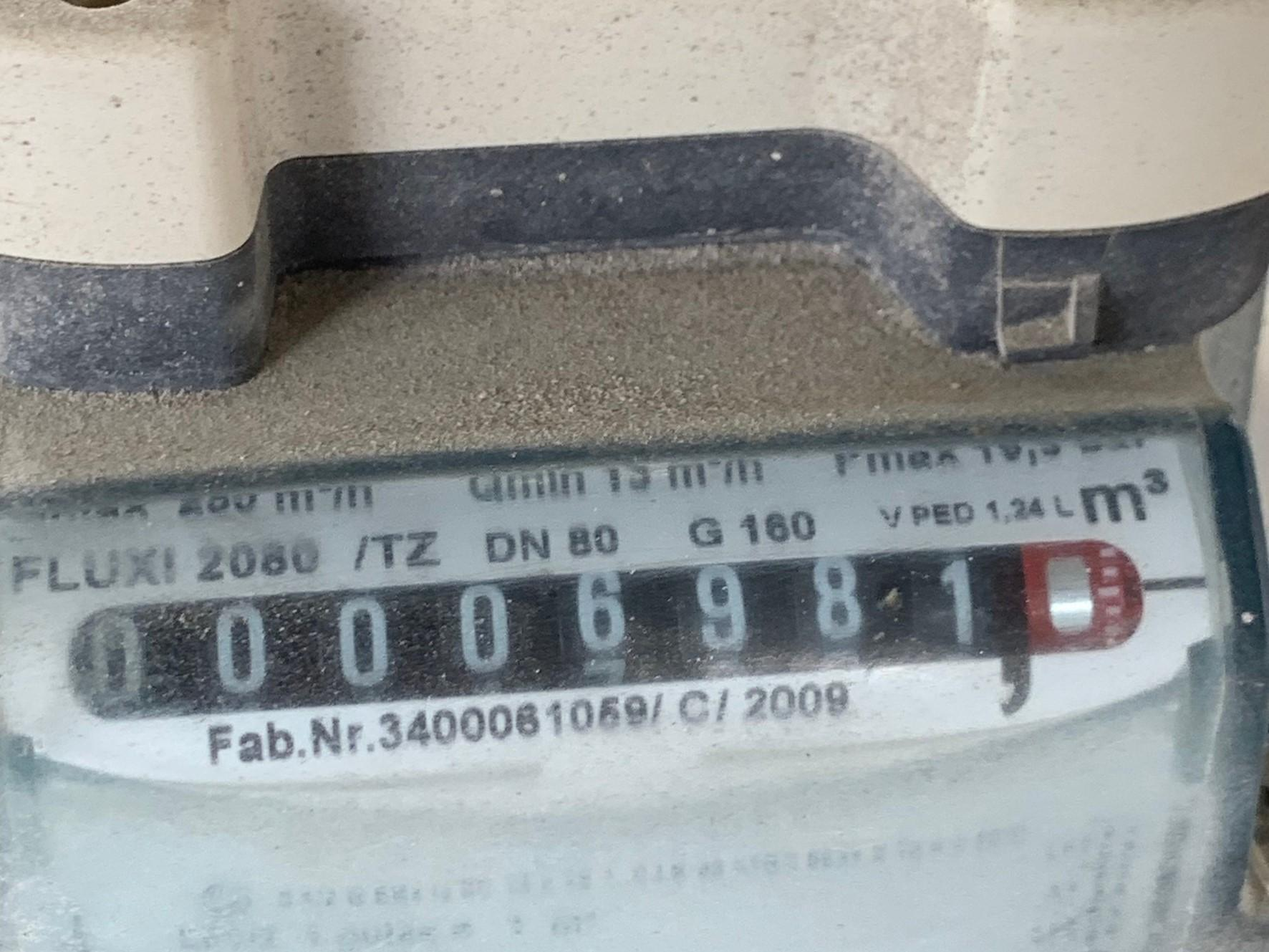analog_dial: (54, 520, 1210, 748)
